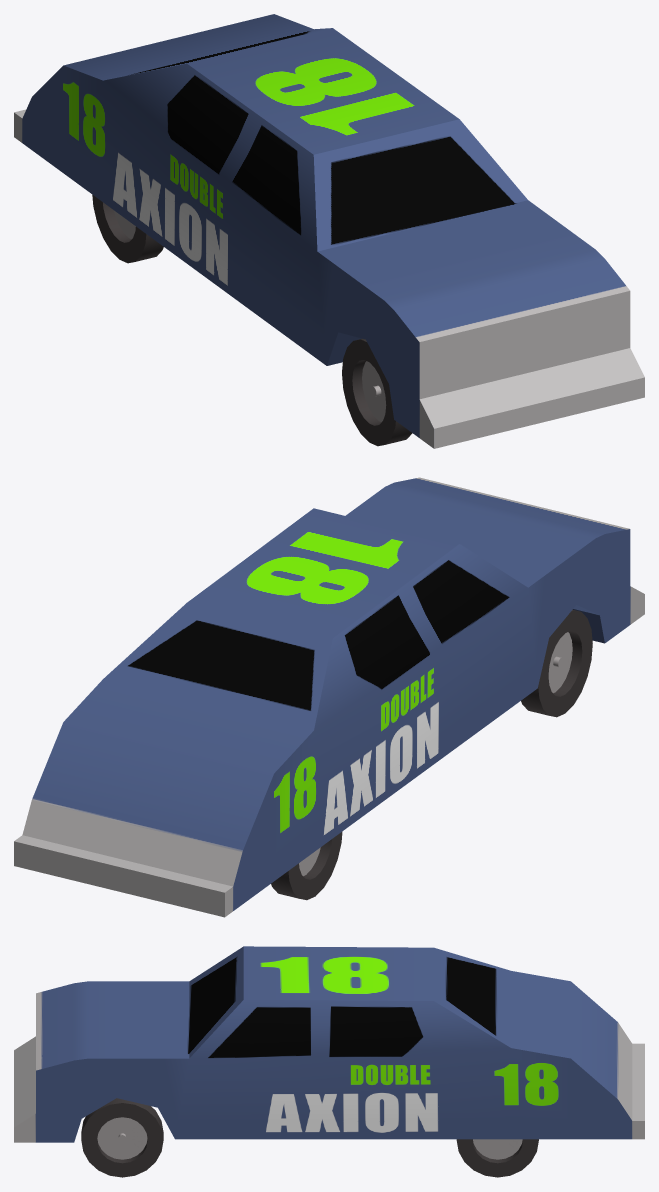
File: Hudson_Hornet_export.fbx
The picture shows the model from 3 angles, top to bottom: view 1: azimuth 30°, elevation 25°; view 2: azimuth 150°, elevation 25°; view 3: azimuth 270°, elevation 25°; orthographic projection. The views are drawn at different scales.
Visible parts, largest first — view 1: pCube1, left_back_wheel6, left_back_wheel7; view 2: pCube1, left_back_wheel6, left_back_wheel7; view 3: pCube1, left_back_wheel5, left_back_wheel4.
Boxes of the visible parts, x1=… form: pCube1: x1=14, y1=14, x2=644, y2=448; left_back_wheel6: x1=342, y1=338, x2=412, y2=446; left_back_wheel7: x1=92, y1=195, x2=163, y2=263; pCube1: x1=14, y1=477, x2=644, y2=917; left_back_wheel6: x1=521, y1=609, x2=592, y2=717; left_back_wheel7: x1=271, y1=831, x2=342, y2=900; pCube1: x1=14, y1=946, x2=644, y2=1142; left_back_wheel5: x1=81, y1=1098, x2=163, y2=1177; left_back_wheel4: x1=456, y1=1139, x2=538, y2=1177.
Bounding box in the file's own units: 4.79 × 4.83 × 16.54.
